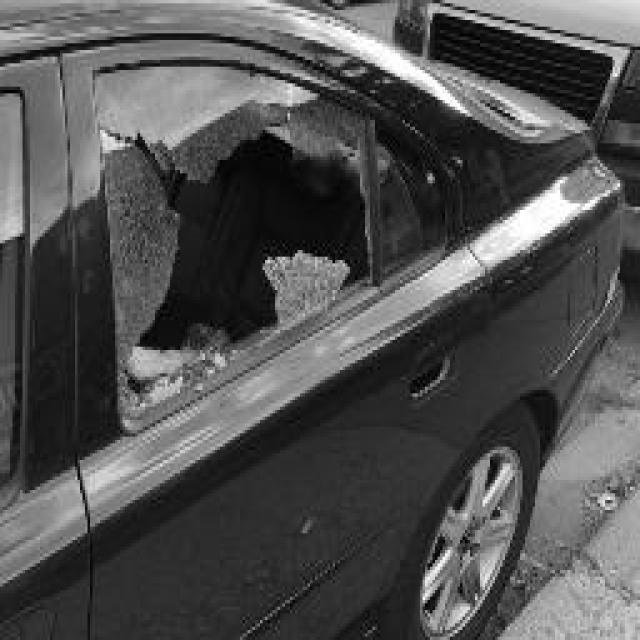Door: (66, 45, 459, 479)
